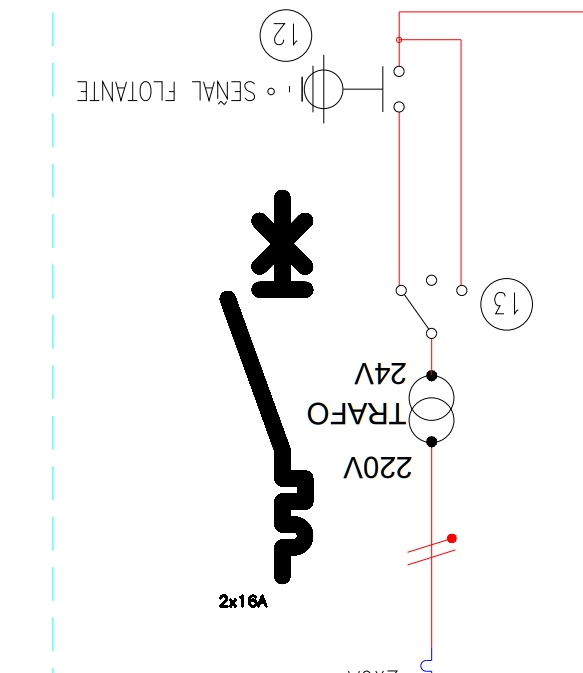interruptor_termomagnetico: (218, 188, 315, 586)
